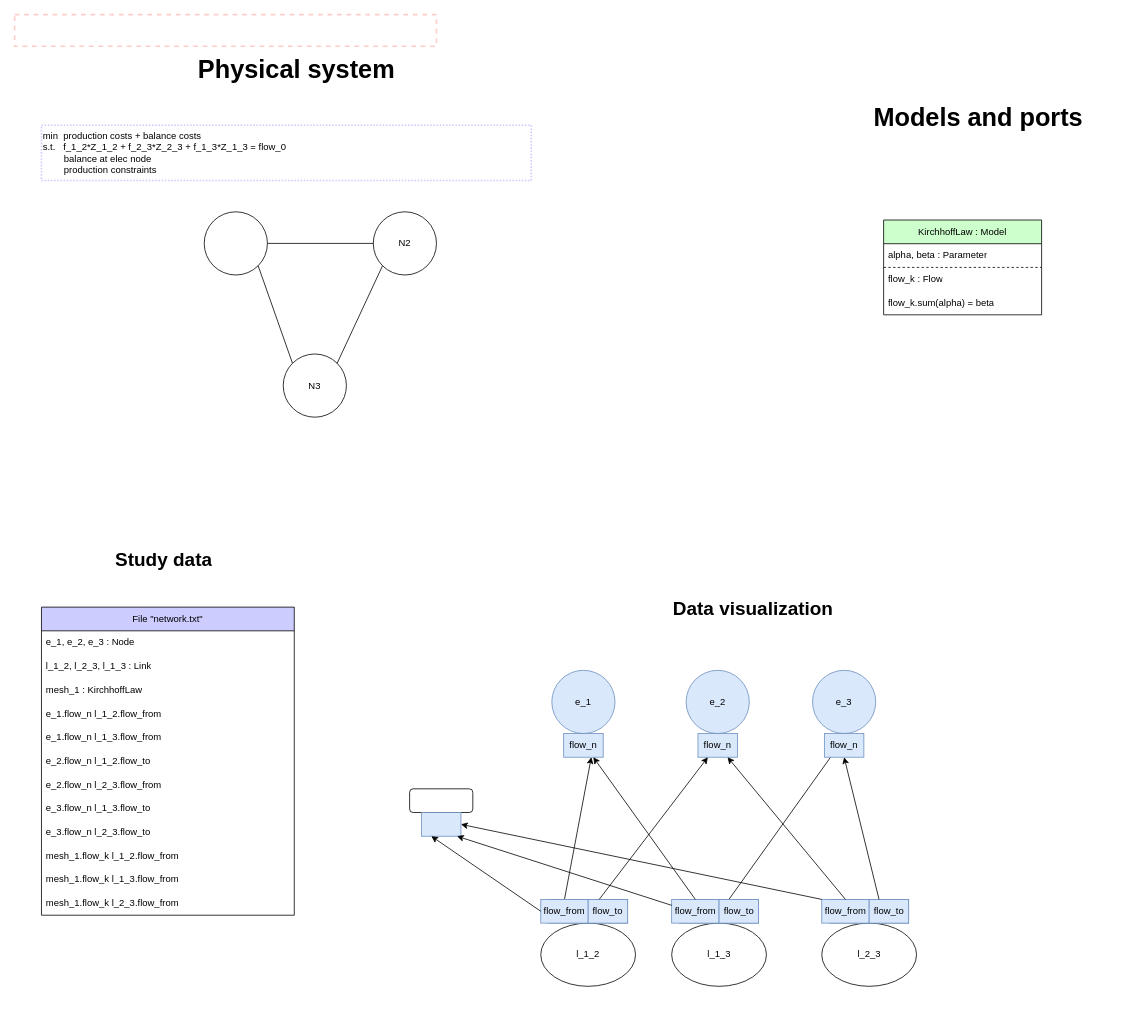
Image size: 1142x1031. Some labels were removed from this diagram. The centre of each missing label's shape, as x and y in pixels:
"flow_k" goes at point (441, 824).
"mesh_1" goes at point (441, 800).
"N1" goes at point (235, 243).
"We represent a network with Kirchhoff's second law." goes at point (225, 30).
